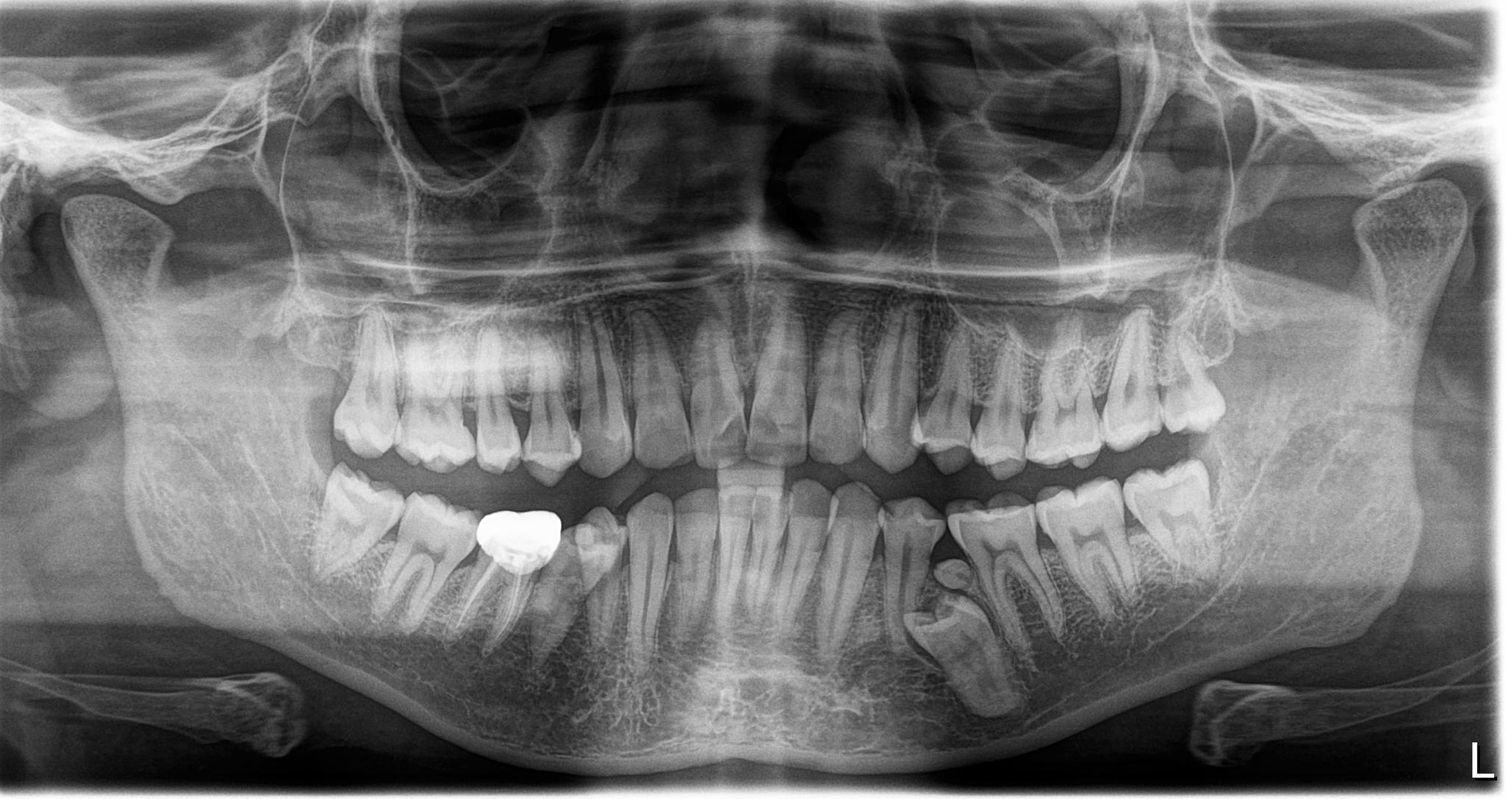Endodontically Treated Tooth: (480, 515, 554, 638)
